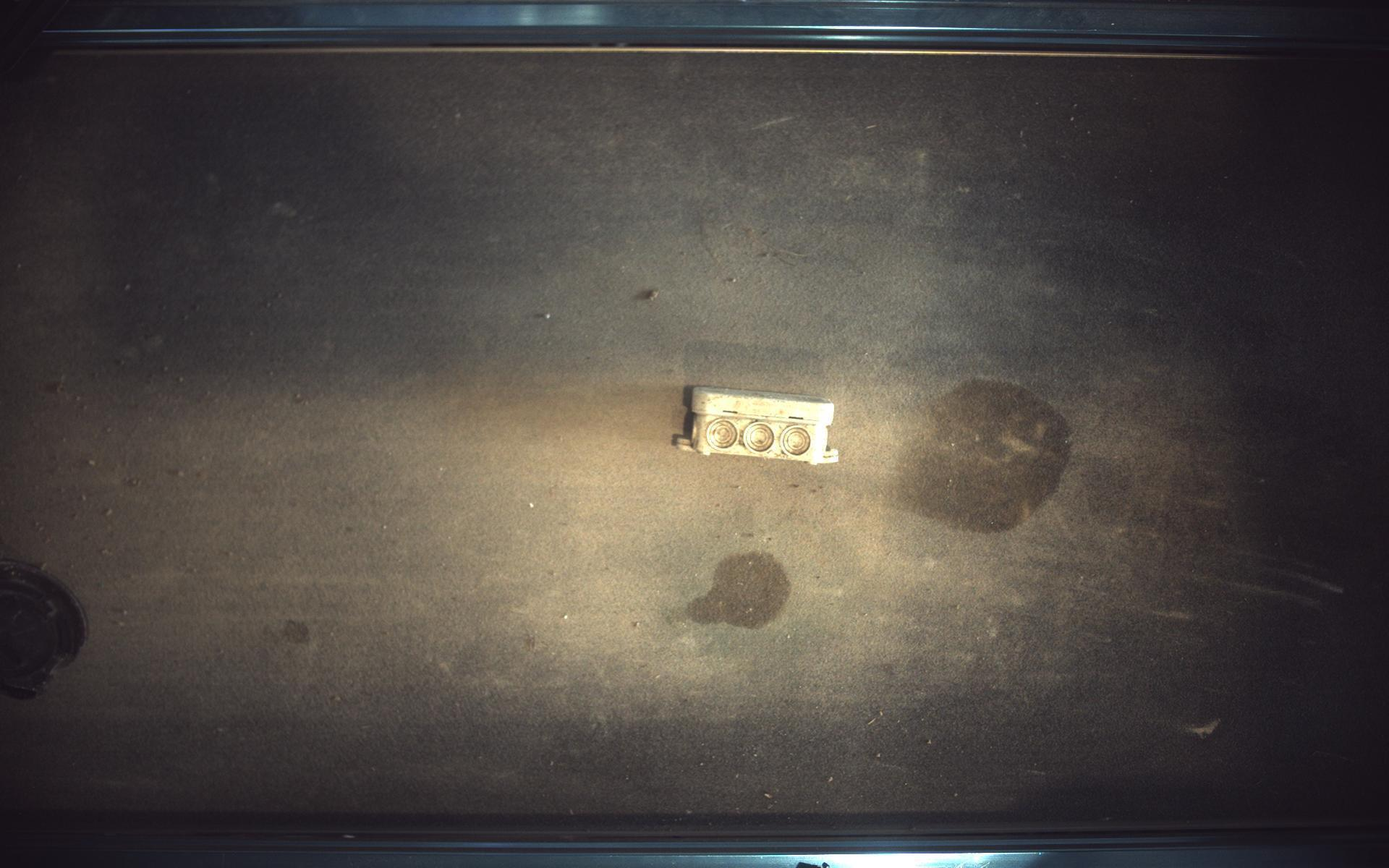plastic: (675, 386, 841, 464)
